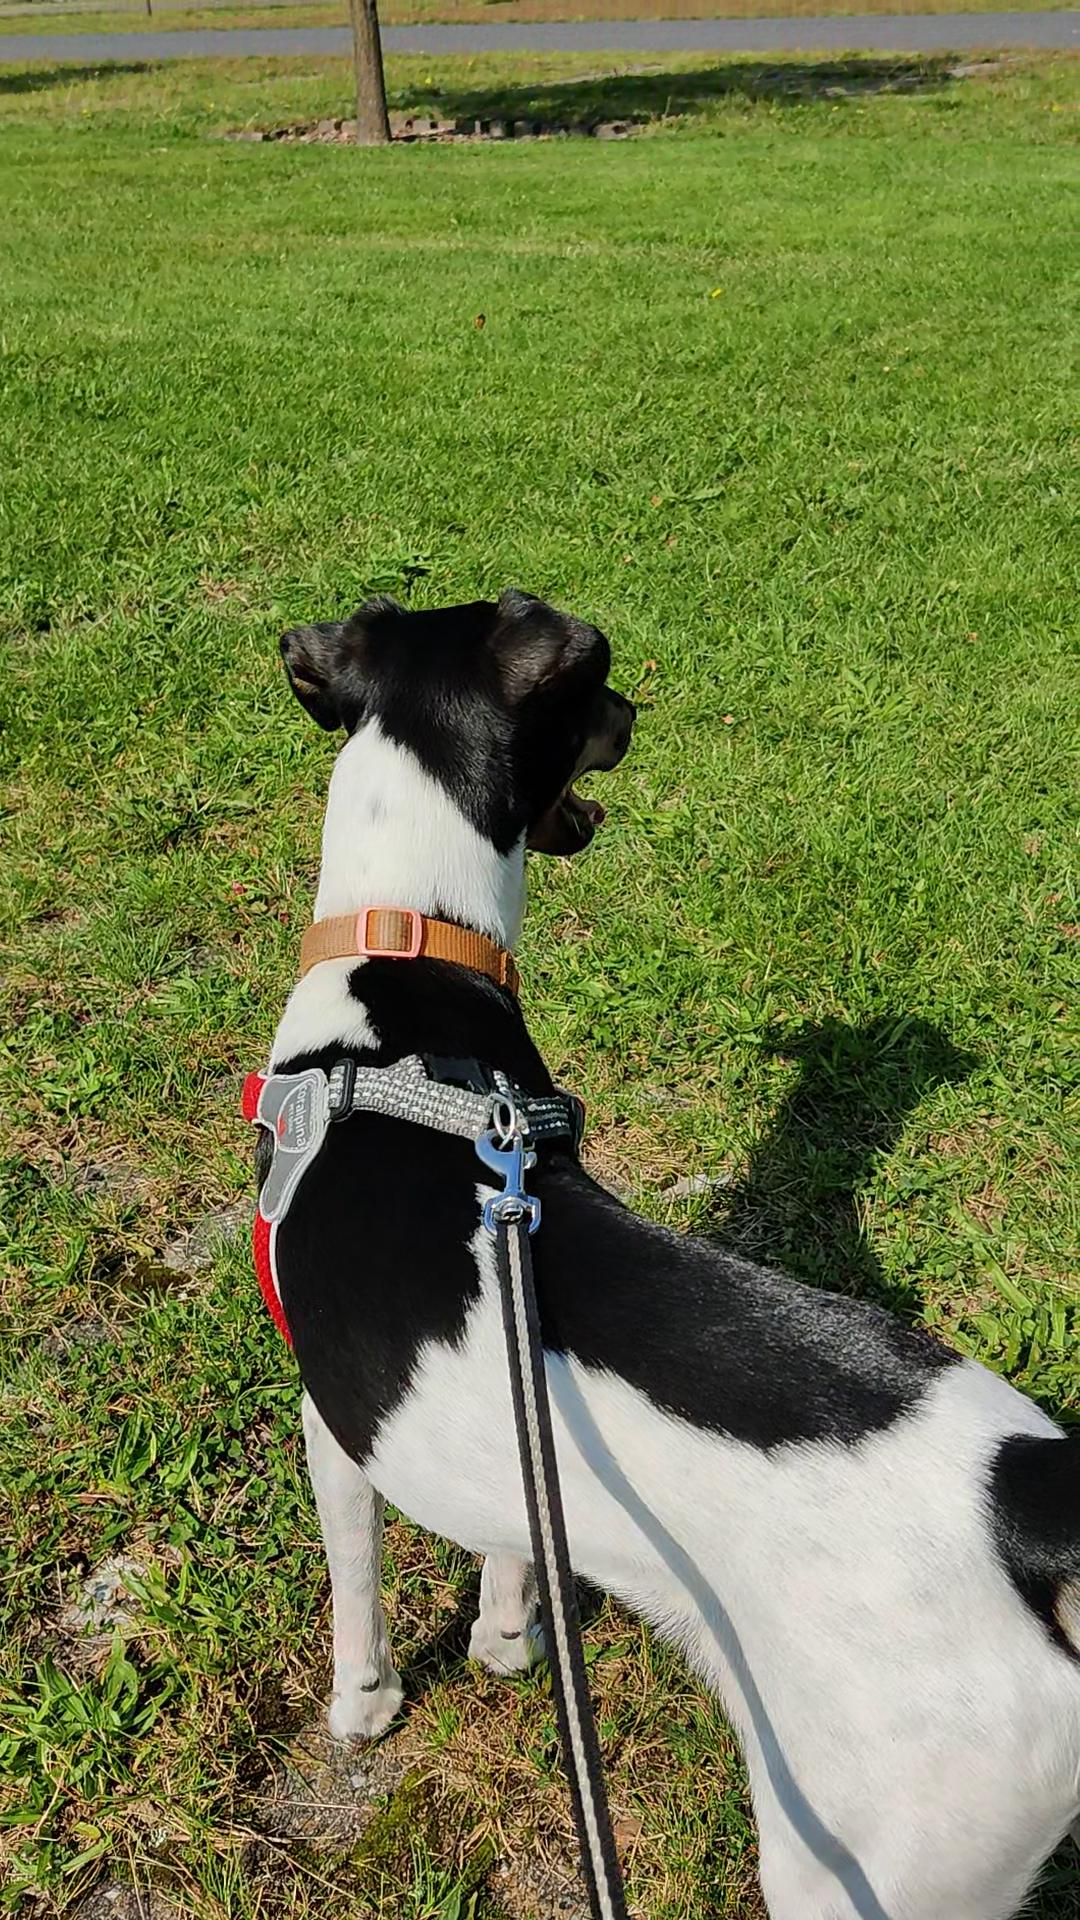Dog: (233, 583, 1079, 1919)
